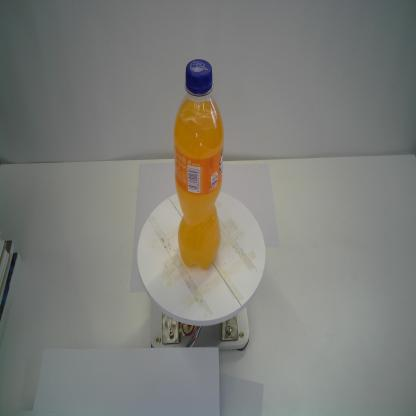Drink: (170, 58, 227, 274)
